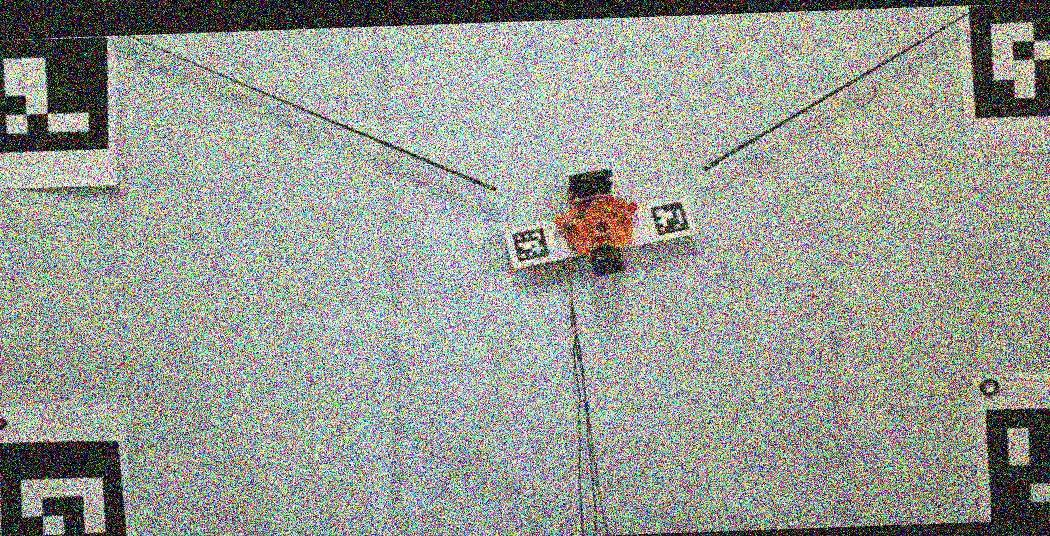robot: (555, 169, 638, 276)
